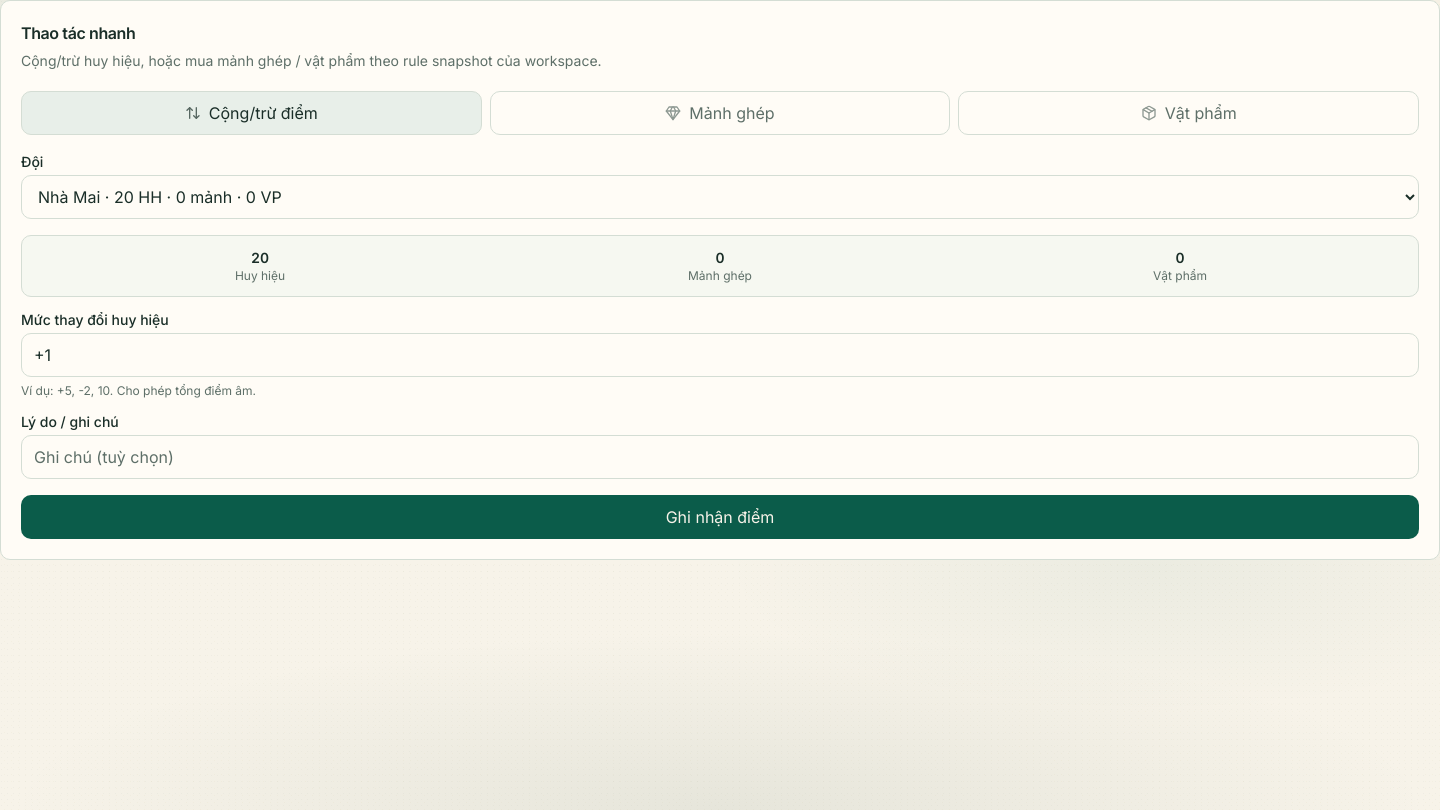
it: QuickActions shop UX › blocks piece purchase when the team cannot afford it
Step 1. Click the tab "Mảnh ghép" → click(720, 113), box [490,91,950,135]
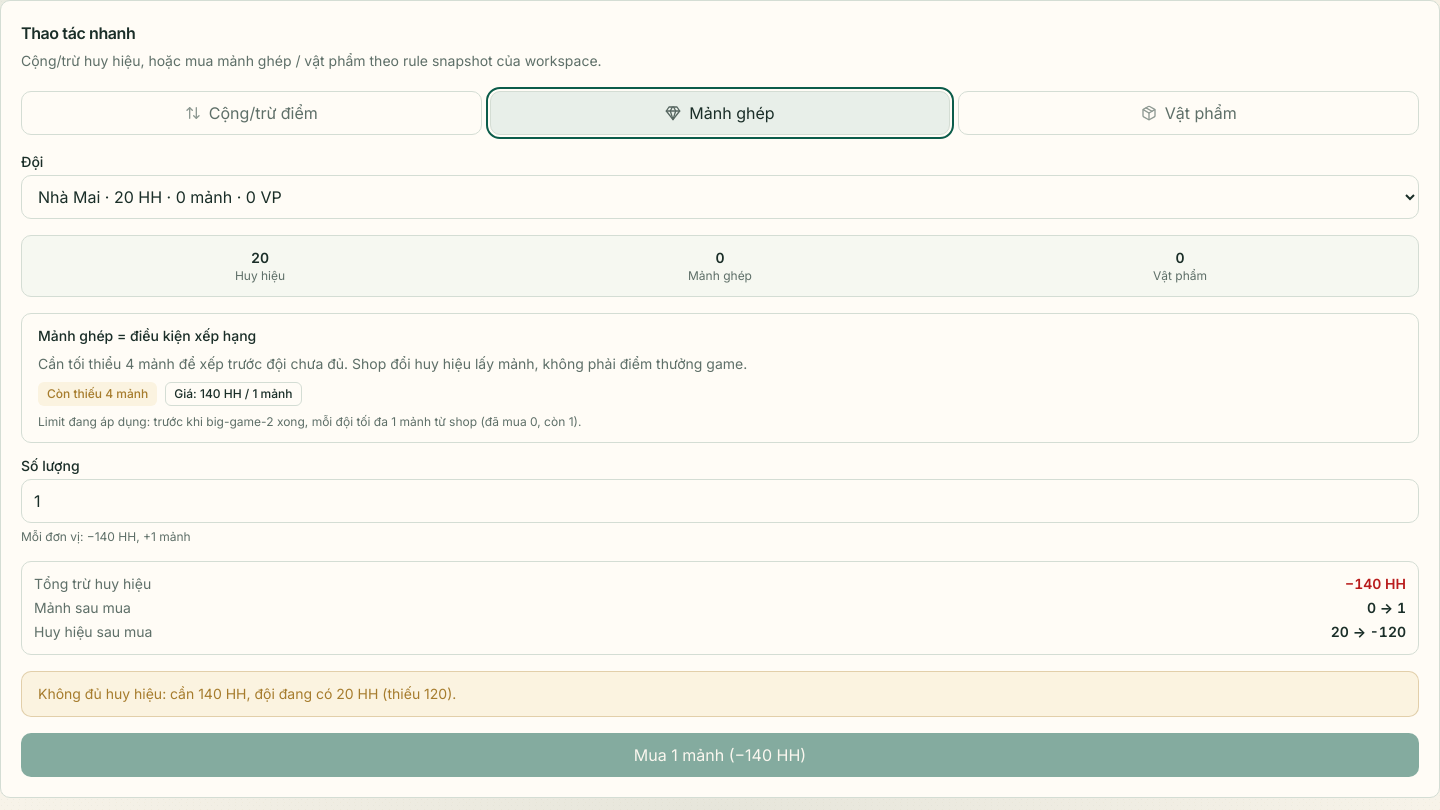
Result: the text "Không đủ huy hiệu: cần 140 HH, đội đang có 20 HH (thiếu 120)." is shown at [21,671,1419,717]
Result: the button with test id "quick-submit" is disabled at [21,733,1419,777]
